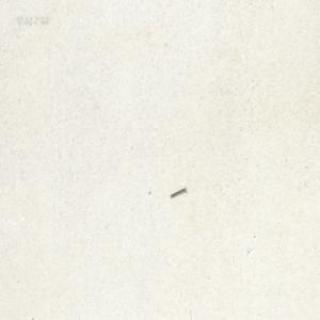Bolttrack_idkeyframe: (168, 184, 184, 197)
